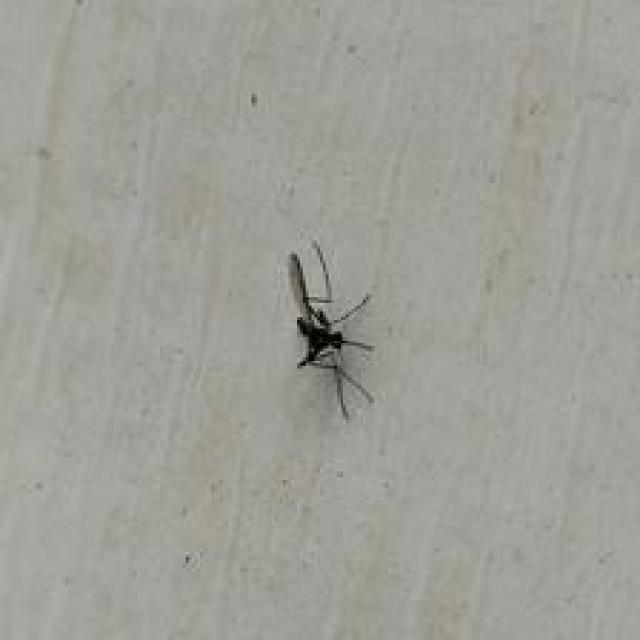Aedes albopictus: (286, 238, 377, 422)
